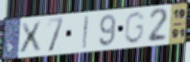2: (148, 7, 170, 45)
7: (46, 16, 64, 54)
9: (97, 13, 118, 48)
G: (122, 10, 146, 45)
I: (81, 15, 90, 50)
X: (18, 20, 43, 55)
